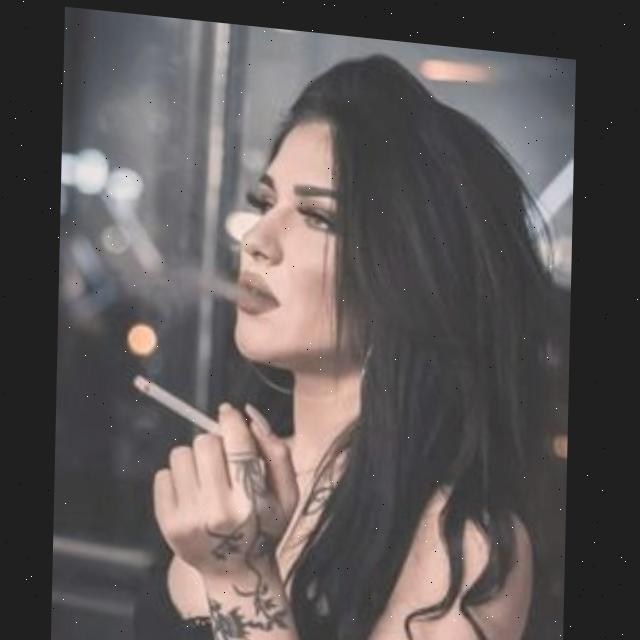cigarette: (136, 373, 225, 432)
